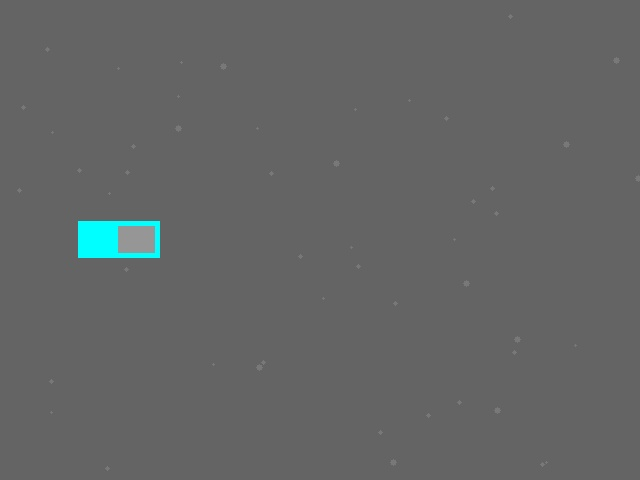truck: (78, 221, 159, 257)
